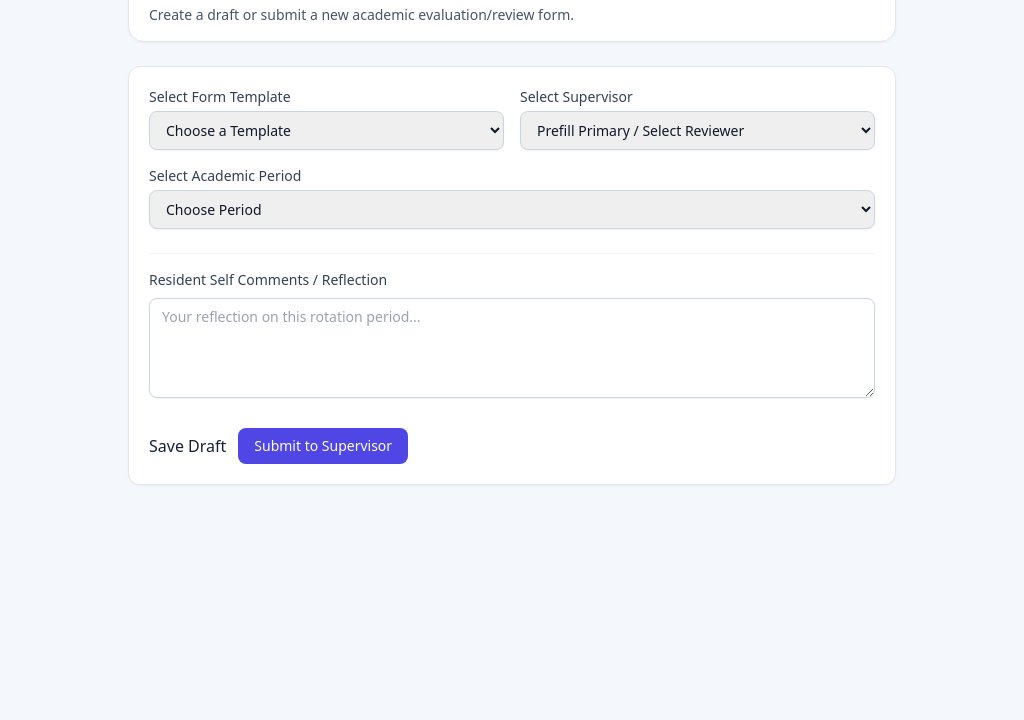
Test: resident academic authoring forms › reports backend authoring failures without navigation
Select "Mini CEX (MINI_CEX)" in the dropdown showing "Choose a Template" below "Select Form Template": (326,130) top-left (149, 111), bottom-right (504, 150)
(page scrolled)
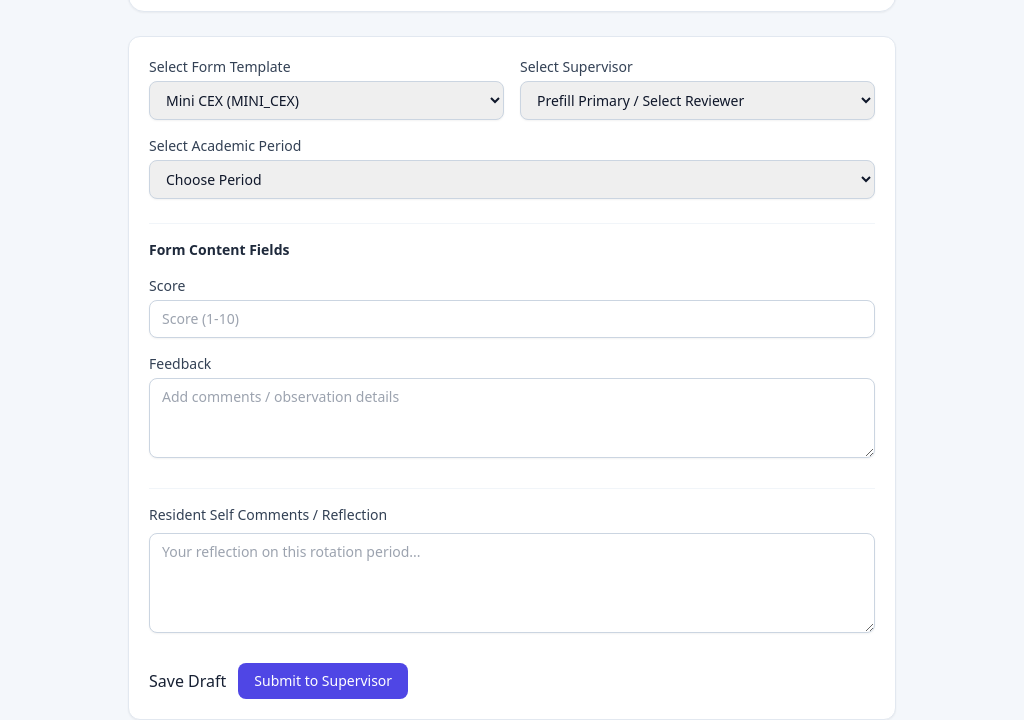
Click the button "Submit to Supervisor": (323,681) top-left (238, 663), bottom-right (408, 699)
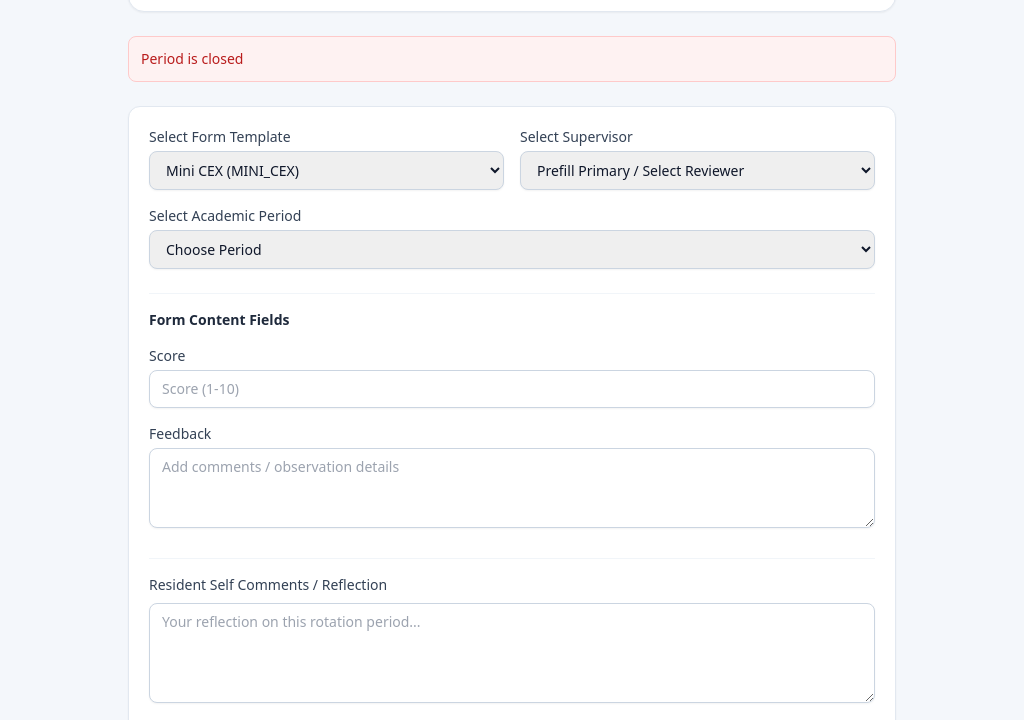
Result: the text "Period is closed" is shown at top-left (128, 36), bottom-right (896, 82)
